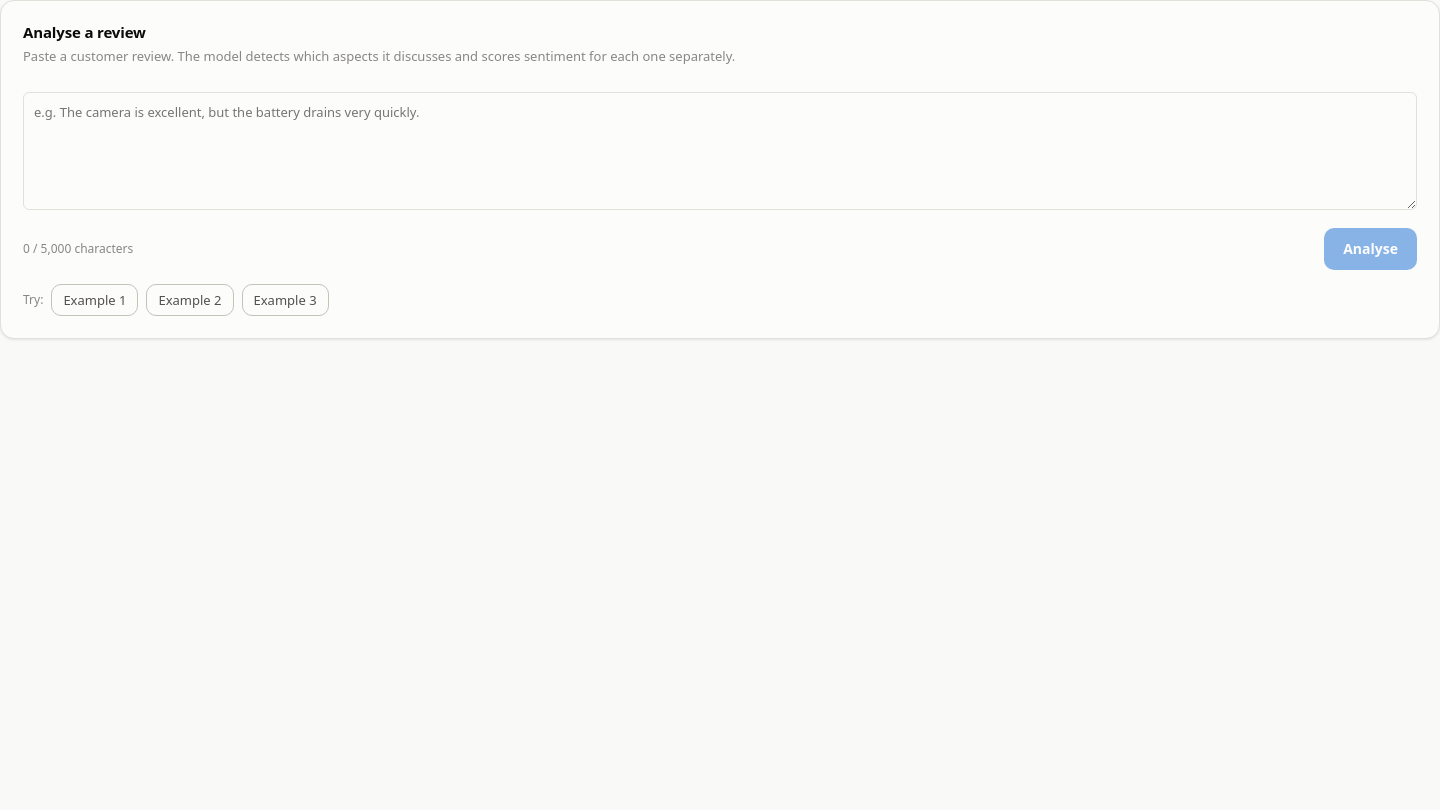
Scenario: result rendering › labels polarity in text, not by colour alone
Type "x" into the text box named "review text" at x=720, y=151, box [23,92,1417,210]
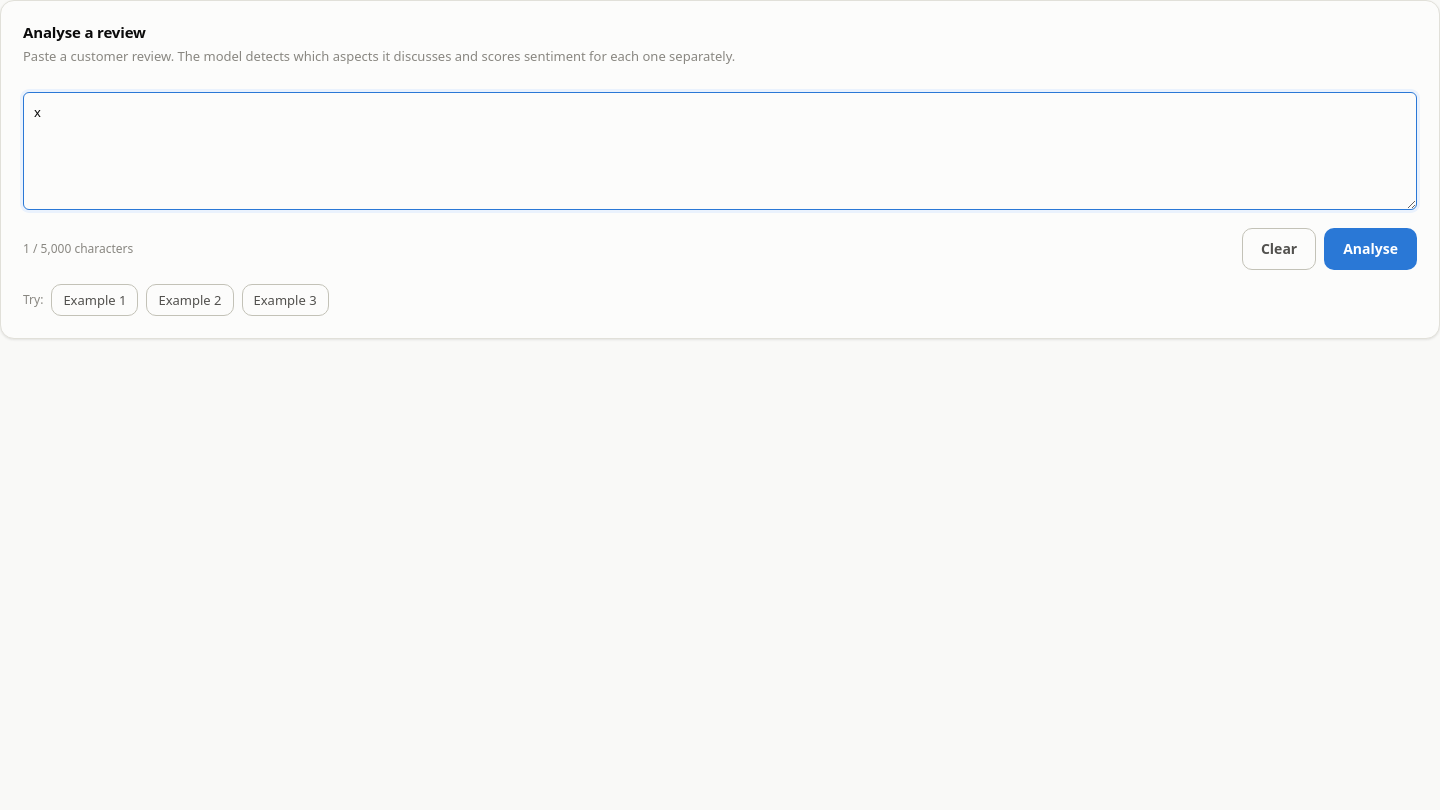
Click the button "Analyse" at x=1371, y=249, box [1324,228,1417,270]
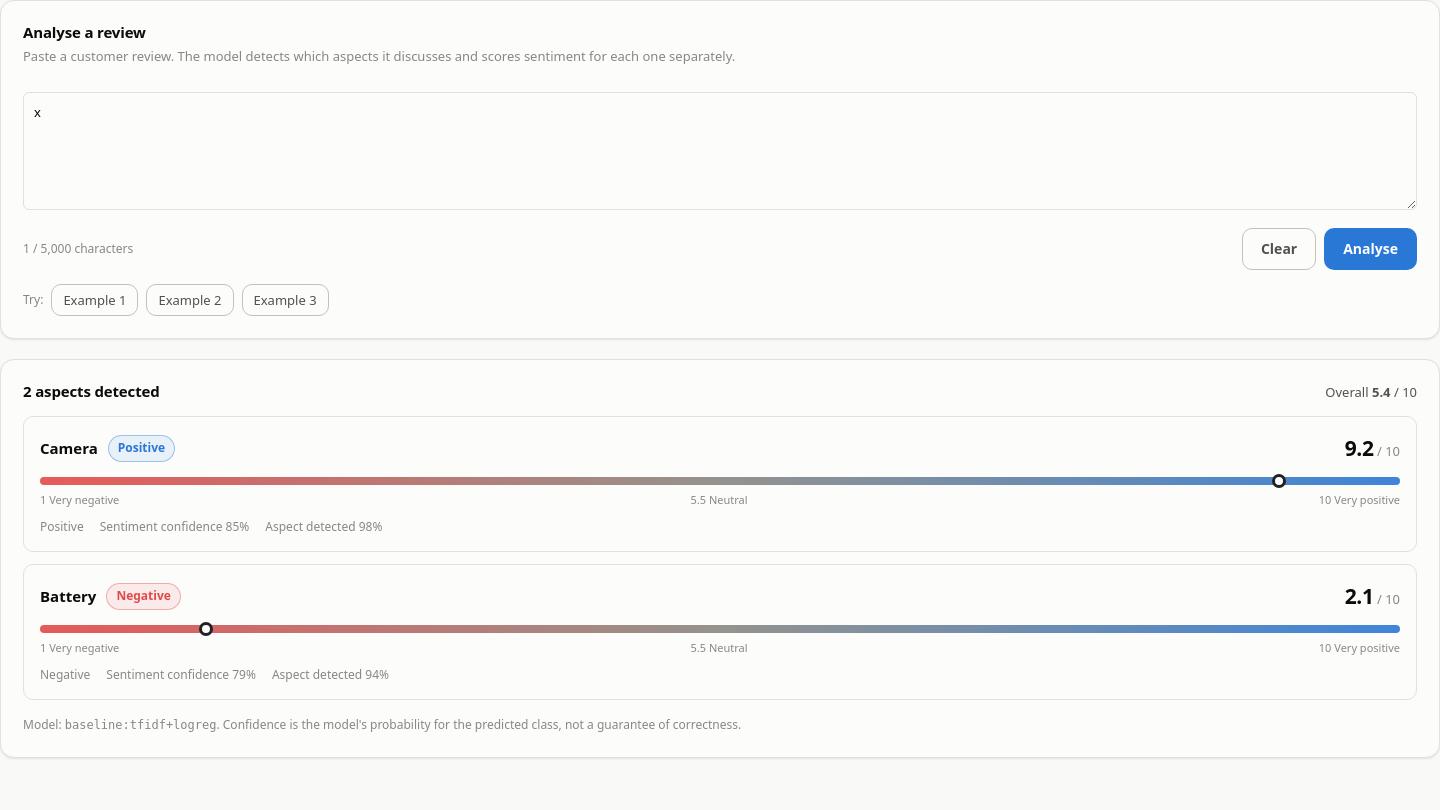
expect the text "Camera" is shown: met, box [40,437,98,460]
